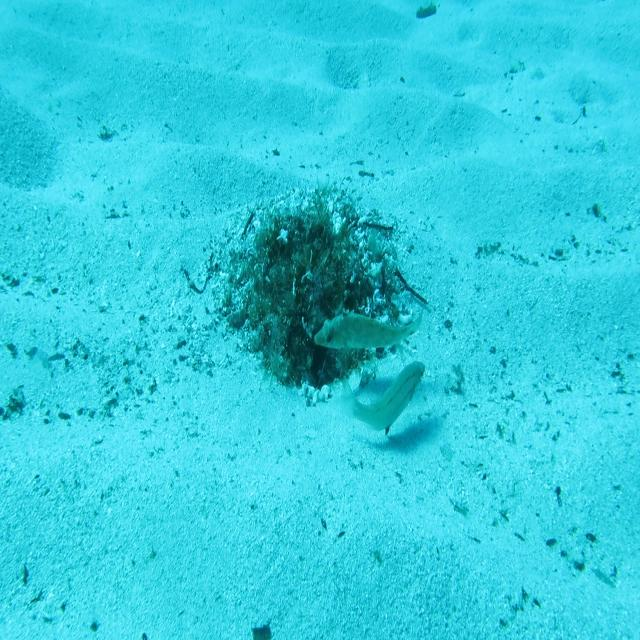ROLL: (313, 300, 425, 358)
core_nest: (280, 227, 332, 276)
female: (338, 356, 427, 439)
nest: (199, 169, 421, 423)
vegetation: (414, 0, 441, 24), (251, 623, 274, 640)
